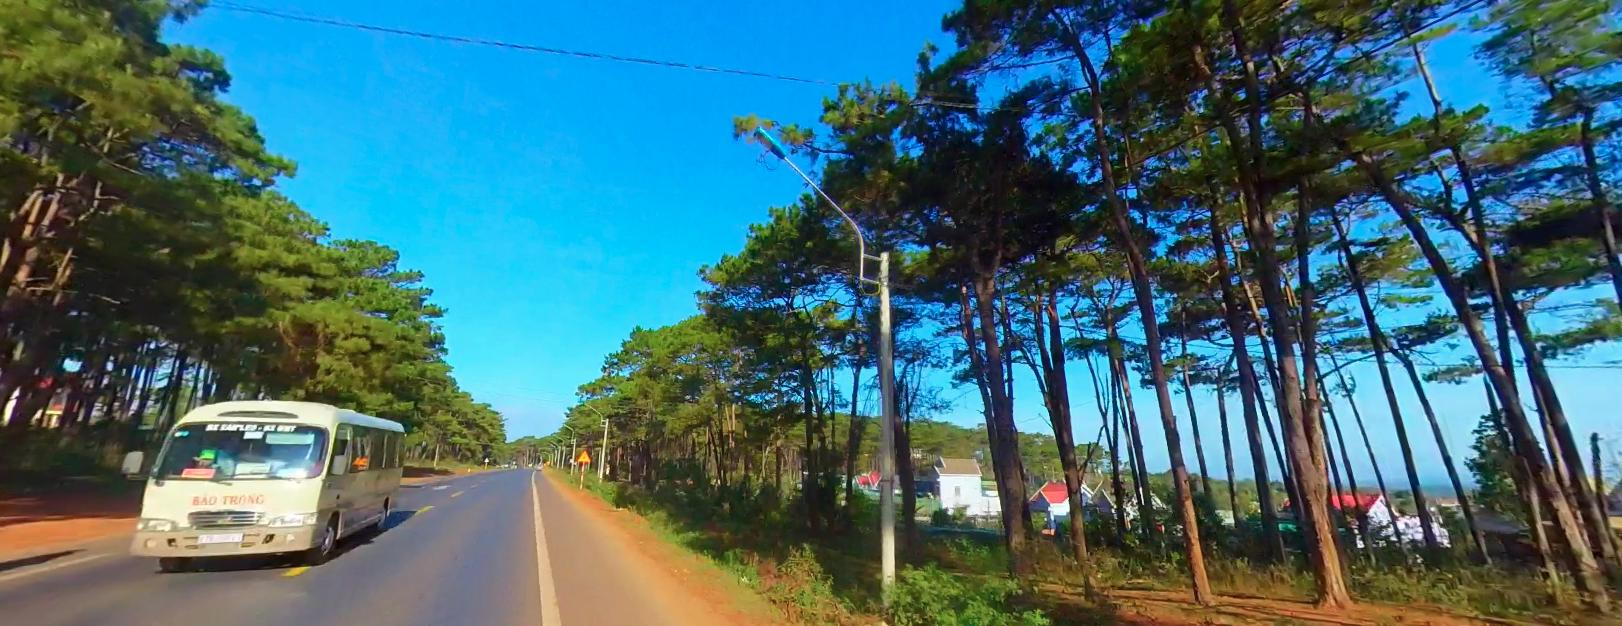Nguy hiem: (575, 447, 591, 461)
